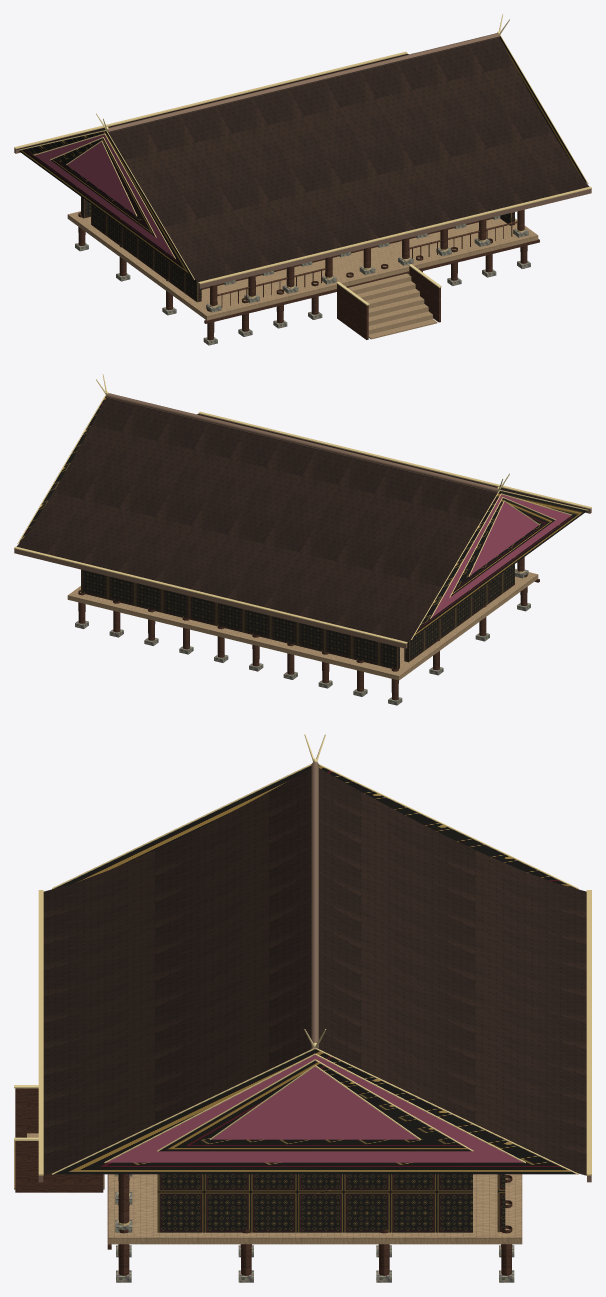
Rendered from house-placeholder.glb.
The picture shows the model from 3 angles, top to bottom: view 1: azimuth 30°, elevation 25°; view 2: azimuth 150°, elevation 25°; view 3: azimuth 270°, elevation 25°; orthographic projection. The views are drawn at different scales.
Parts seen in each view (by area): view 1: house_placeholder; view 2: house_placeholder; view 3: house_placeholder.
Part boxes in pixels (x1,y1,x2,y2): house_placeholder: [14, 14, 591, 345]; house_placeholder: [14, 374, 591, 705]; house_placeholder: [14, 734, 591, 1282].
Bounding box in the file's own units: 27.04 × 12.11 × 22.35.
Materials: 9 (5 with a texture image).
